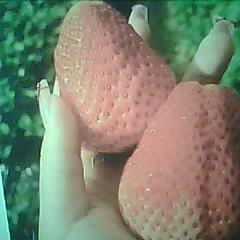straw-ripe: (118, 83, 240, 240), (55, 1, 176, 153)
